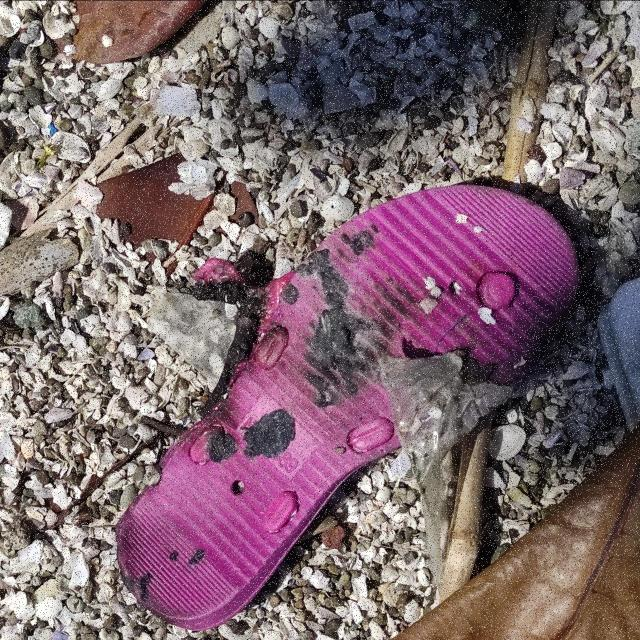rubber_waste: (114, 182, 584, 635)
